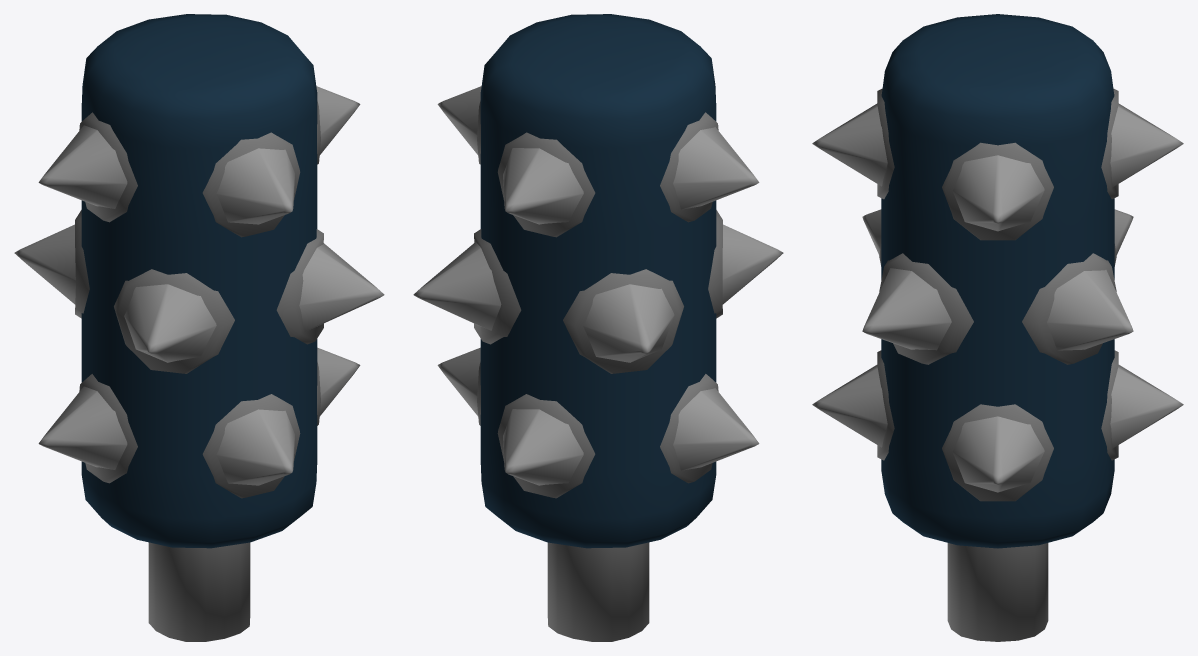
File: Hazard_Cylinder.glb
3 views of the same model, side by side, from view 1: azimuth 30°, elevation 25°; view 2: azimuth 150°, elevation 25°; view 3: azimuth 270°, elevation 25° (orthographic).
Visible parts, largest first — view 1: Hazard_Cylinder; view 2: Hazard_Cylinder; view 3: Hazard_Cylinder.
Boxes of the visible parts, left/top/right/bottom form: Hazard_Cylinder: left=14, top=14, right=384, bottom=641; Hazard_Cylinder: left=413, top=14, right=783, bottom=641; Hazard_Cylinder: left=812, top=14, right=1183, bottom=641.
Bounding box in the file's own units: 2.28 × 3.88 × 2.28.
